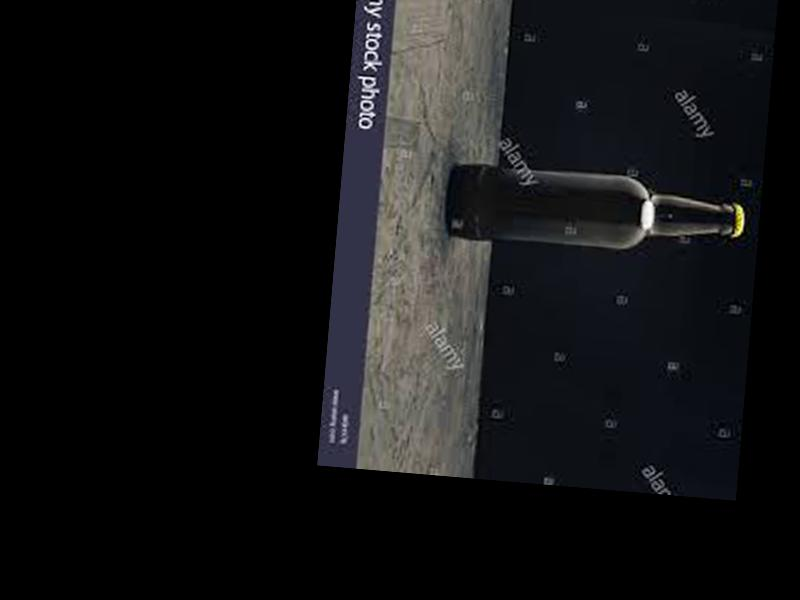Beer: (445, 168, 745, 261)
